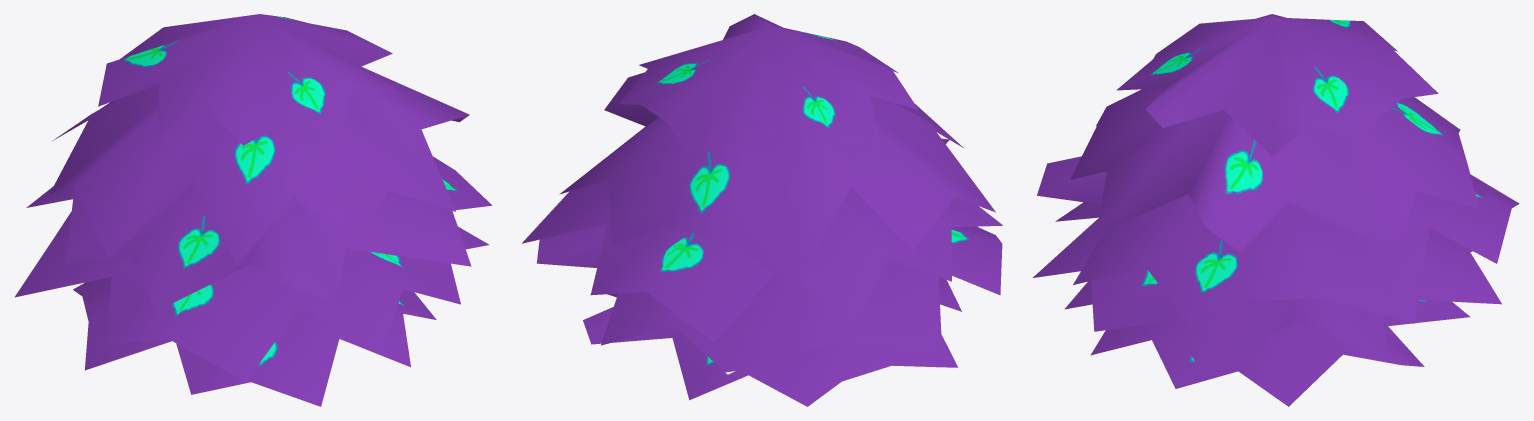
Rendered from Arbusto_1_FBX.fbx.
3 views of the same model, side by side, from view 1: azimuth 30°, elevation 25°; view 2: azimuth 150°, elevation 25°; view 3: azimuth 270°, elevation 25° (orthographic). The views are drawn at different scales.
Parts seen in each view (by area): view 1: Arbusto_1; view 2: Arbusto_1; view 3: Arbusto_1.
Boxes of the visible parts, box(x1,y1,x2,y2) form: Arbusto_1: box(15, 14, 492, 406); Arbusto_1: box(522, 14, 1002, 406); Arbusto_1: box(1033, 14, 1519, 406).
Bounding box in the file's own units: 1.73 × 1.26 × 1.78.
